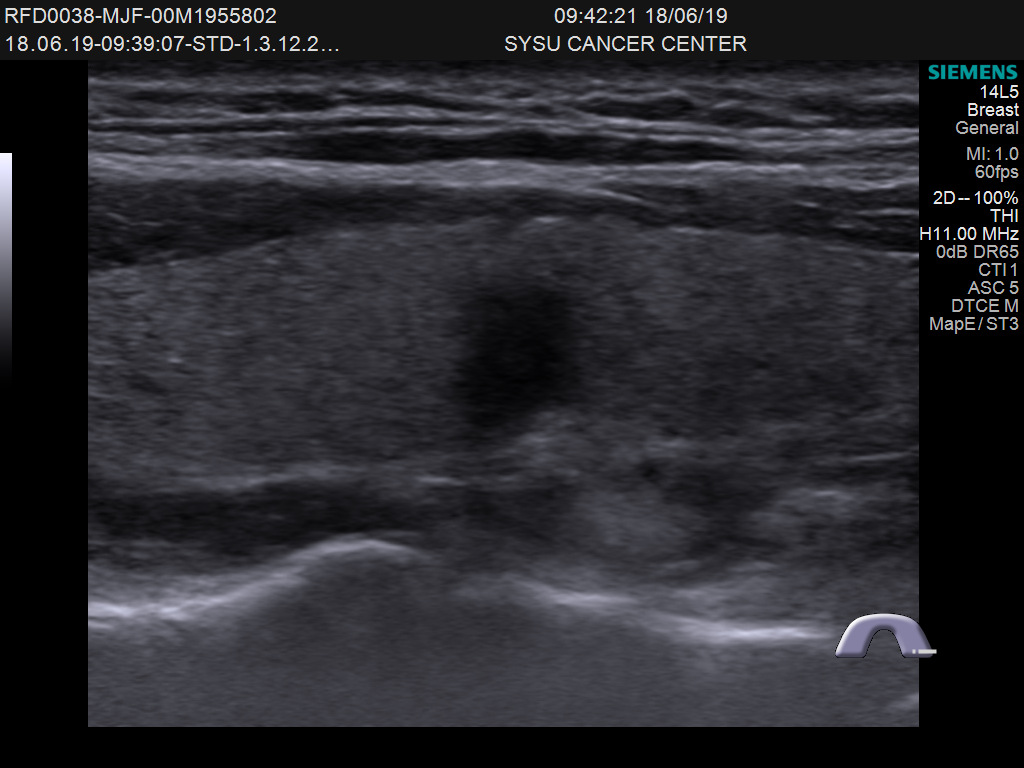Thyroid_tumor: (441, 243, 612, 464)
